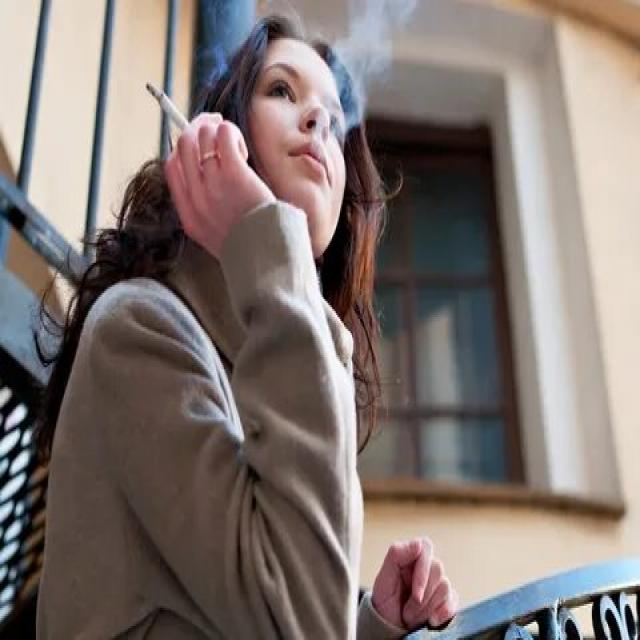smoke: (144, 76, 195, 134)
